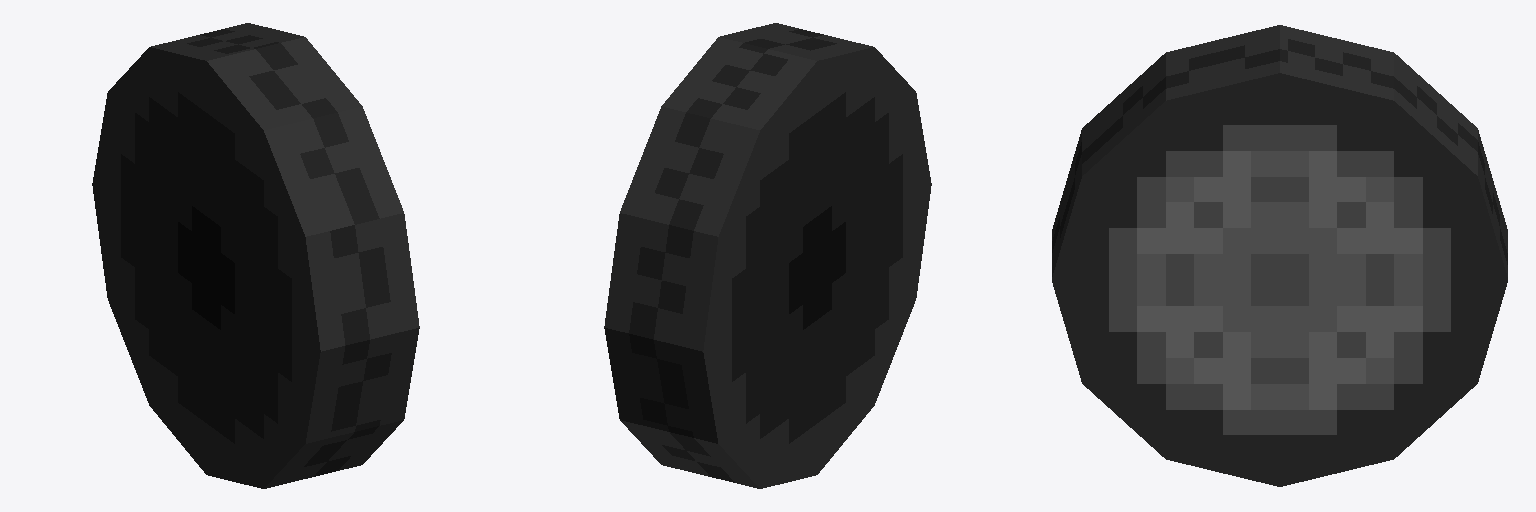
The picture shows the model from 3 angles: view 1: azimuth 30°, elevation 25°; view 2: azimuth 150°, elevation 25°; view 3: azimuth 270°, elevation 25°; orthographic projection.
Parts seen in each view (by area): view 1: roda; view 2: roda; view 3: roda.
Boxes of the visible parts, x1=… form: roda: x1=92, y1=23, x2=419, y2=488; roda: x1=604, y1=23, x2=931, y2=488; roda: x1=1052, y1=25, x2=1507, y2=486.
Size of the model in its own units: 0.125 by 0.5 by 0.5.
Materials: 1 (1 with a texture image).